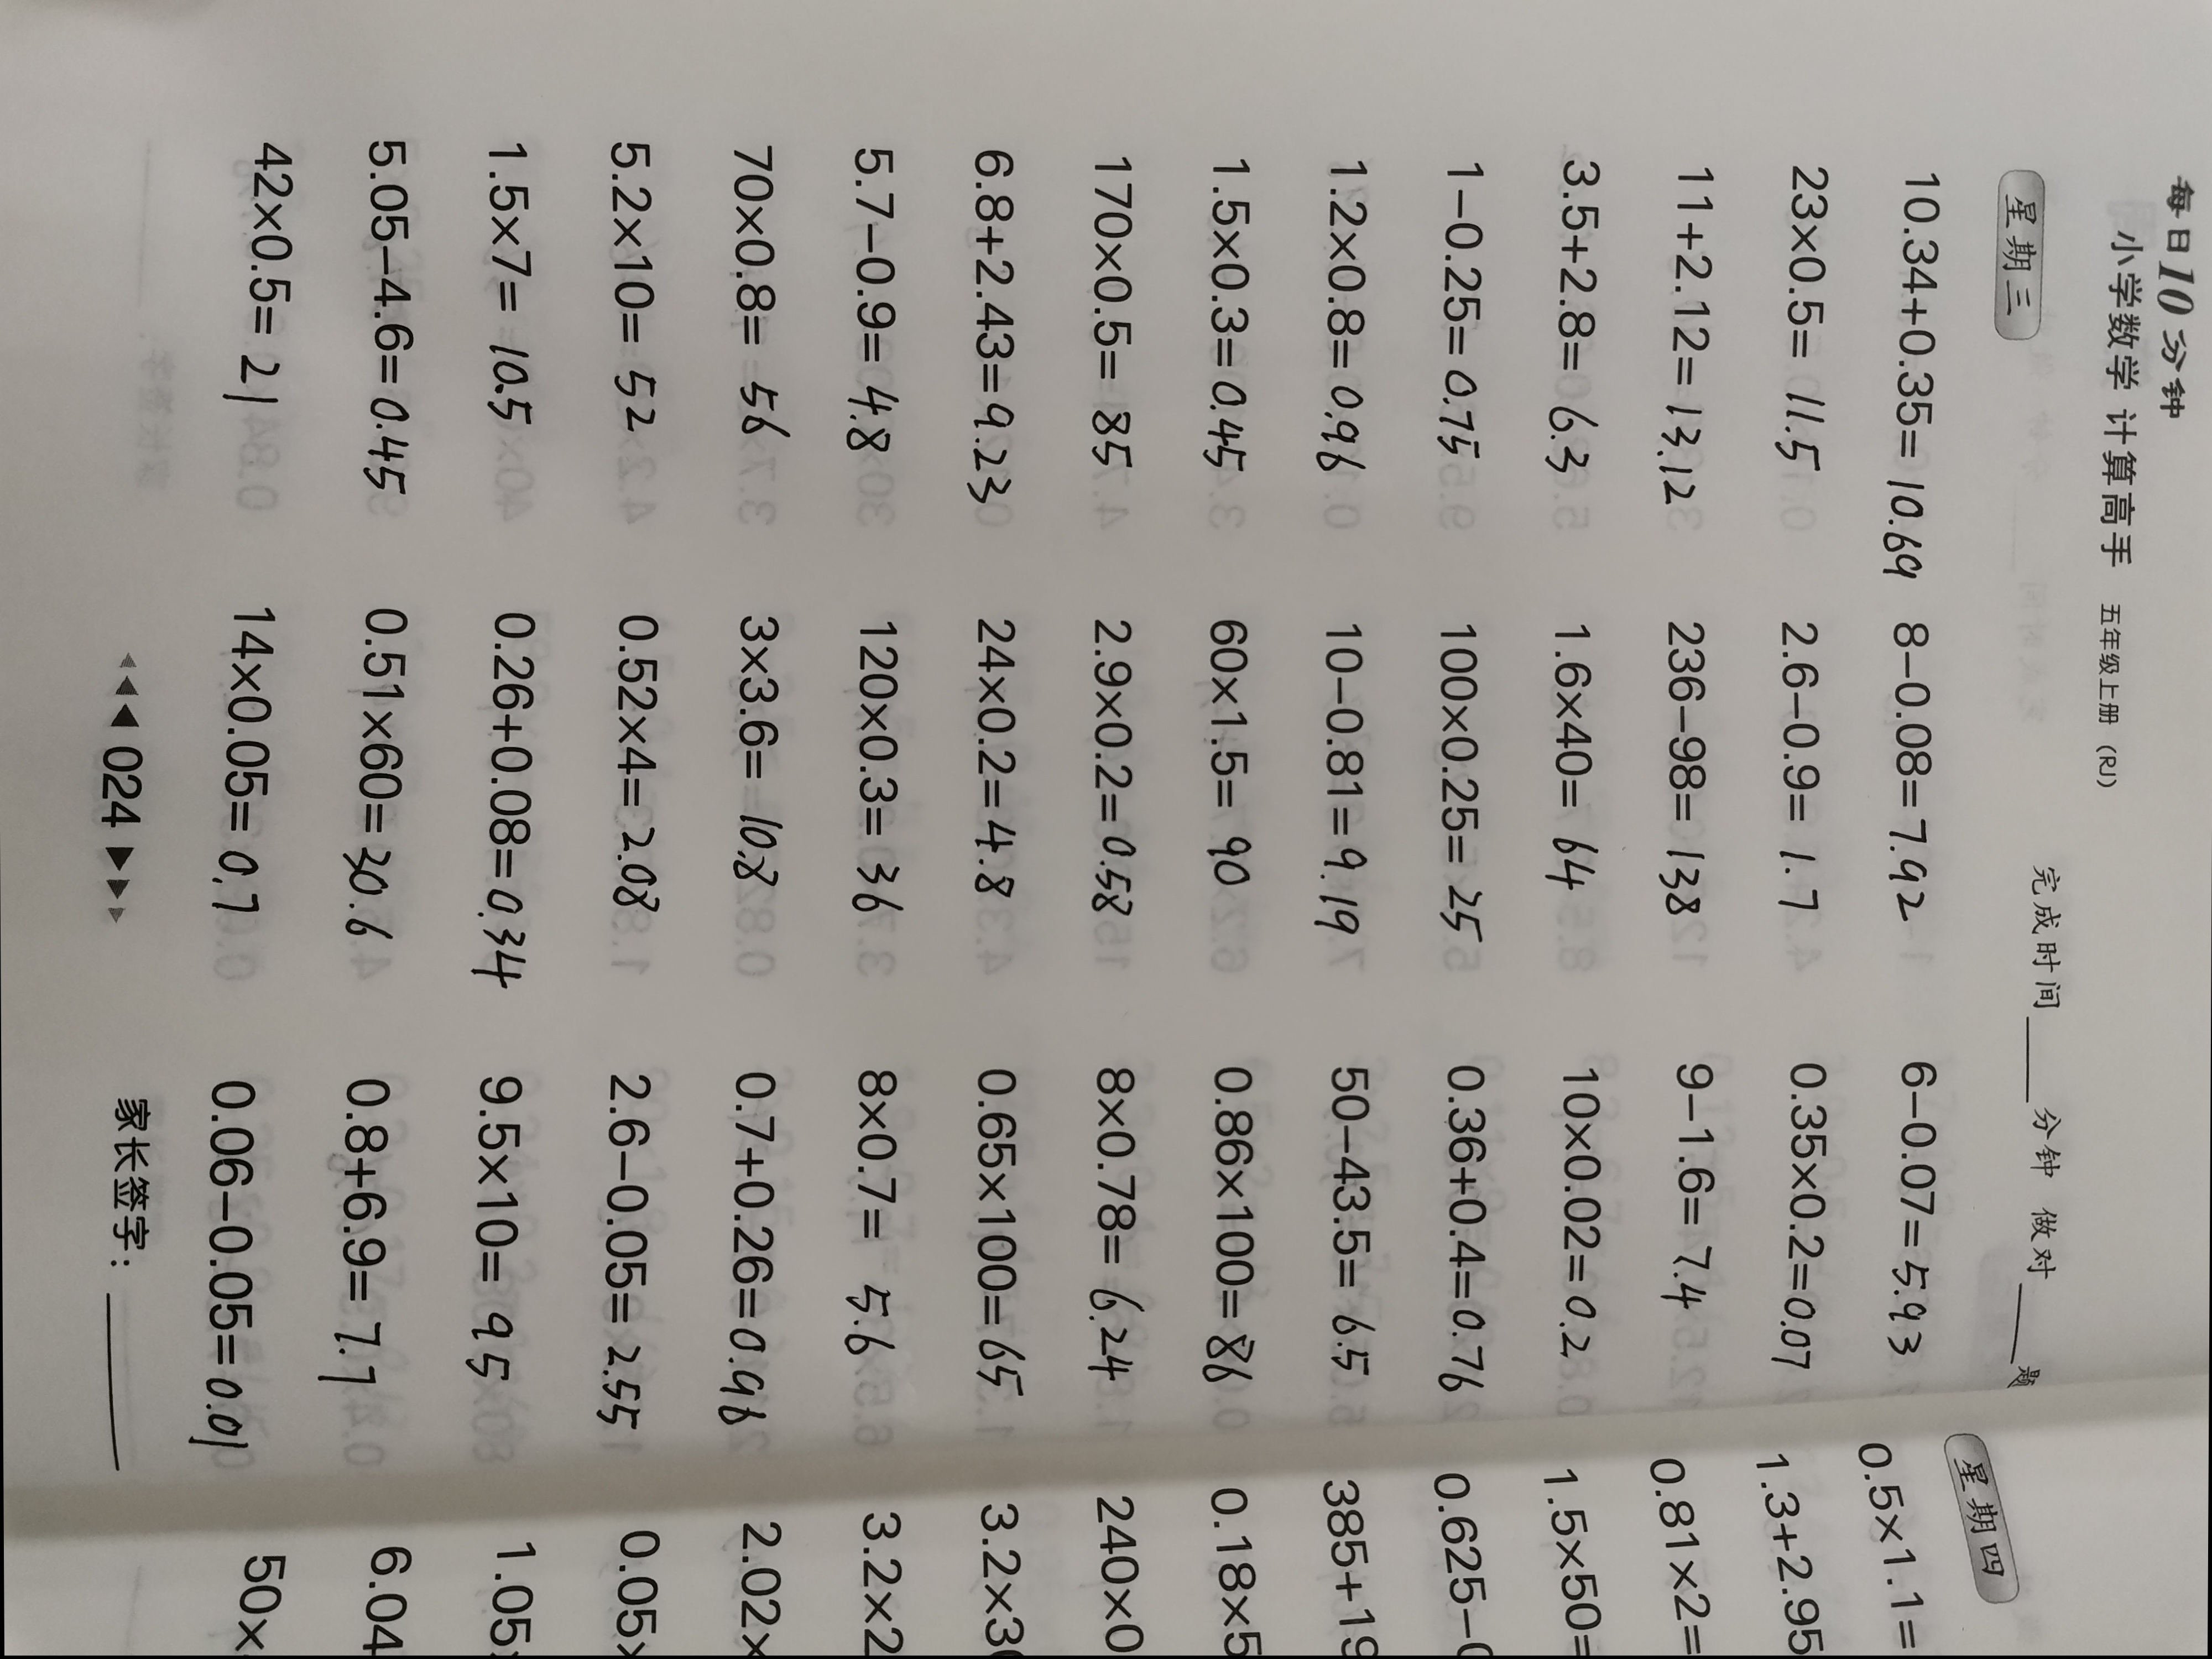equation: (775, 1232, 1341, 1316), (1414, 1450, 1961, 1534), (1397, 1349, 1897, 1432), (172, 875, 697, 950), (1393, 1155, 1946, 1225), (775, 1432, 1252, 1511), (1397, 1061, 1939, 1129), (779, 1331, 1285, 1403), (211, 195, 784, 258), (150, 1330, 676, 1396), (1404, 1251, 1885, 1321), (148, 974, 646, 1040), (200, 362, 707, 427), (1393, 526, 1888, 591), (1376, 612, 1869, 676), (796, 362, 1275, 429), (167, 1053, 632, 1121), (153, 1234, 606, 1303), (157, 1424, 583, 1497), (786, 1056, 1238, 1122), (1393, 275, 1857, 340), (176, 795, 671, 854), (1393, 713, 1872, 774), (183, 702, 648, 765), (1397, 878, 1886, 938), (186, 446, 658, 507), (1407, 965, 1839, 1030), (799, 965, 1242, 1028), (806, 789, 1256, 850), (186, 617, 657, 674), (803, 1150, 1268, 1208), (1386, 190, 1824, 251), (164, 1150, 604, 1209), (197, 277, 651, 333), (190, 533, 629, 591), (810, 540, 1271, 594), (1404, 441, 1841, 497), (806, 626, 1268, 678), (1393, 800, 1862, 850), (803, 885, 1224, 941), (829, 197, 1245, 251), (810, 450, 1198, 507), (817, 702, 1205, 758), (1393, 364, 1782, 415), (813, 281, 1238, 326)
